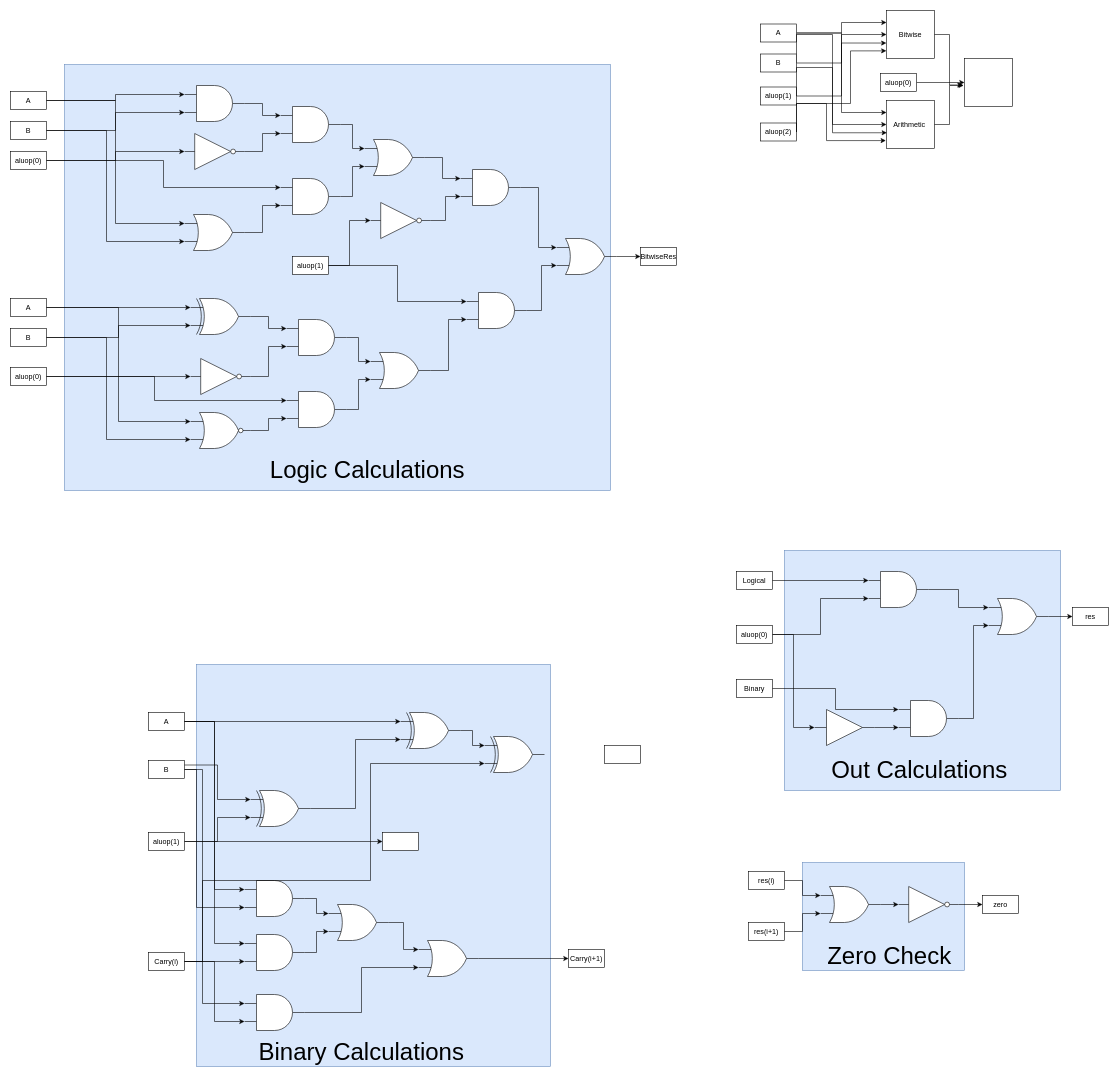
The diagram is 1119 pixels wide and 1083 high, and some of its shapes have lost their labels. The centre of each missing label's shape, as x and y in pixels:
"Carry(0)" belongs at point 400,841.
"Result Out" belongs at point 988,82.
"Sum" belongs at point 622,754.
